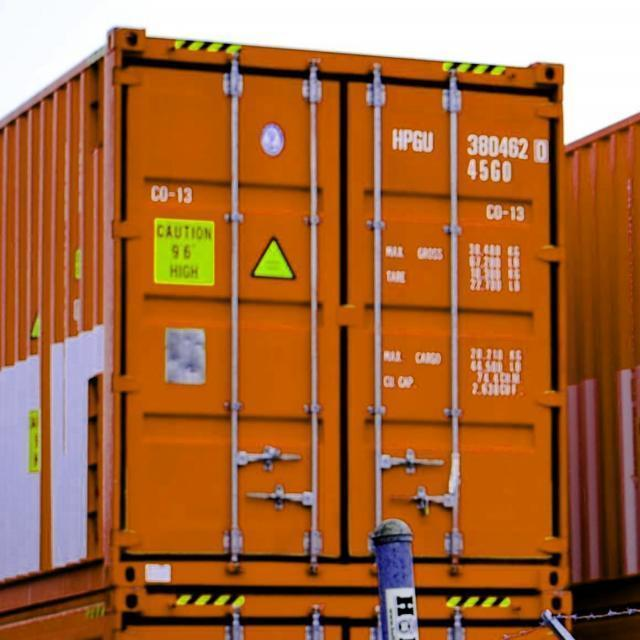ISO: (464, 159, 518, 183)
container_number: (389, 124, 553, 158)
